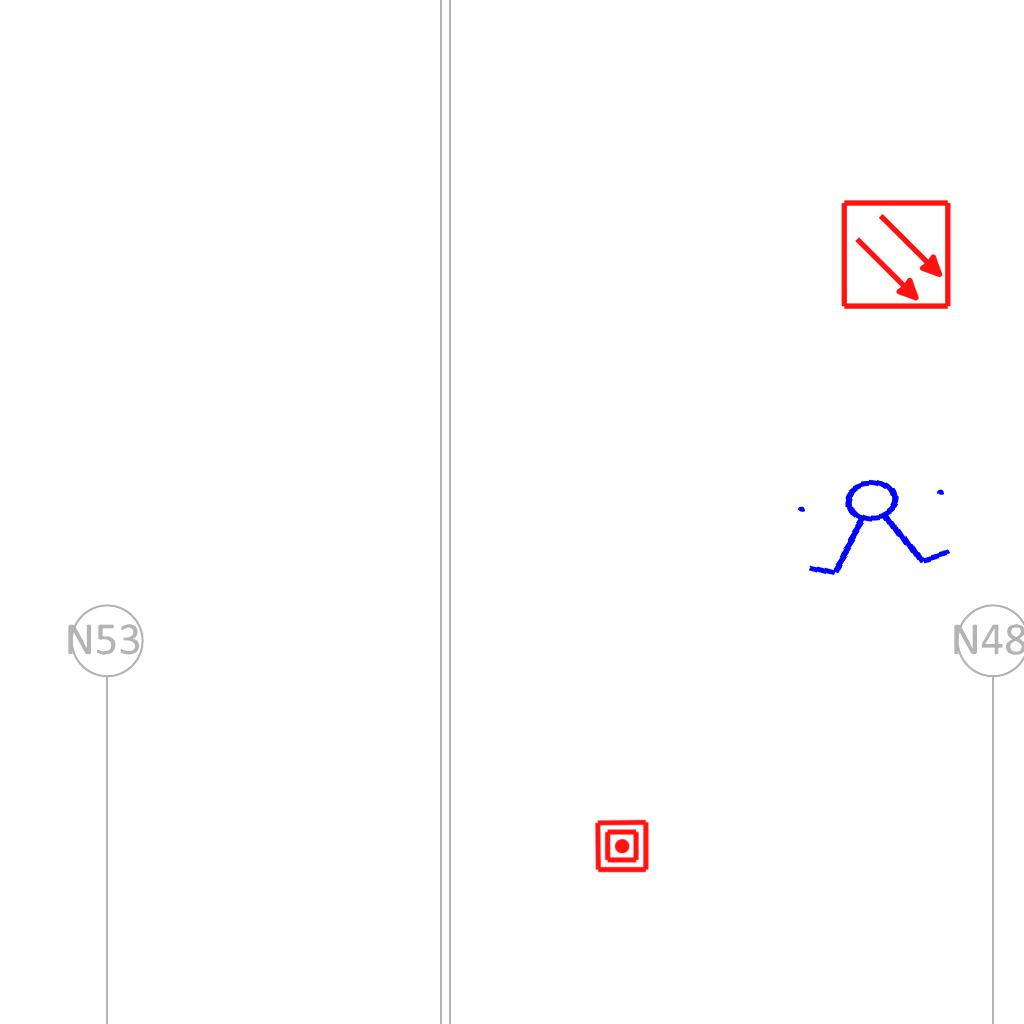NAM-Nichtautomatischer_Melder: (594, 818, 650, 874)
RMO_Rauchmelder_optischer: (840, 198, 953, 311)
Serienschalter: (786, 468, 966, 584)
